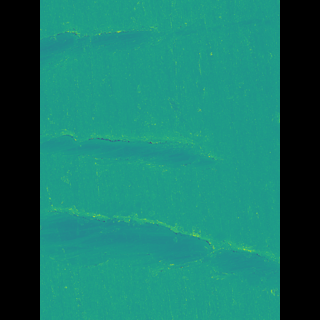Loch: (68, 204, 248, 299), (69, 1, 248, 75), (70, 125, 208, 179)
